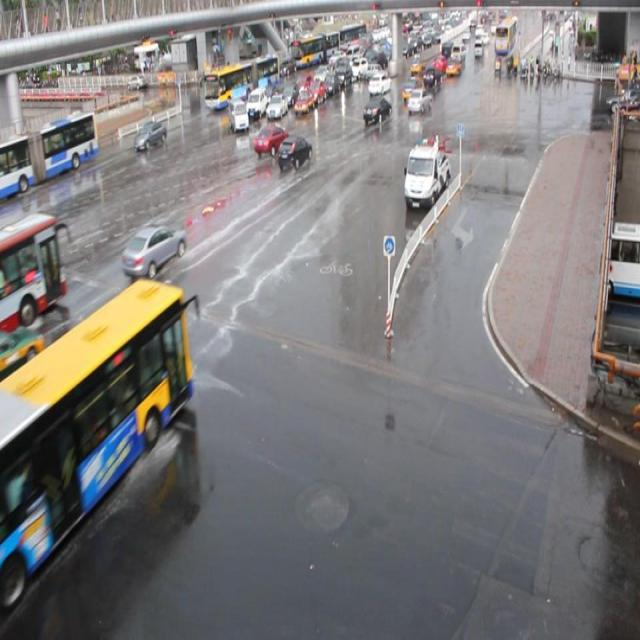bus: (402, 140, 450, 208)
car: (121, 223, 187, 277), (1, 327, 44, 382), (276, 134, 312, 168), (253, 123, 290, 156), (134, 120, 167, 150), (362, 96, 391, 122), (406, 88, 431, 112), (292, 90, 313, 116), (304, 79, 325, 105), (402, 77, 424, 100), (368, 72, 391, 94), (262, 79, 284, 102), (266, 95, 287, 118), (279, 82, 299, 105), (291, 74, 311, 95)
truck: (244, 87, 267, 119), (228, 97, 248, 132)
van: (1, 279, 192, 619), (1, 110, 98, 198), (1, 212, 67, 338), (204, 53, 279, 109)
